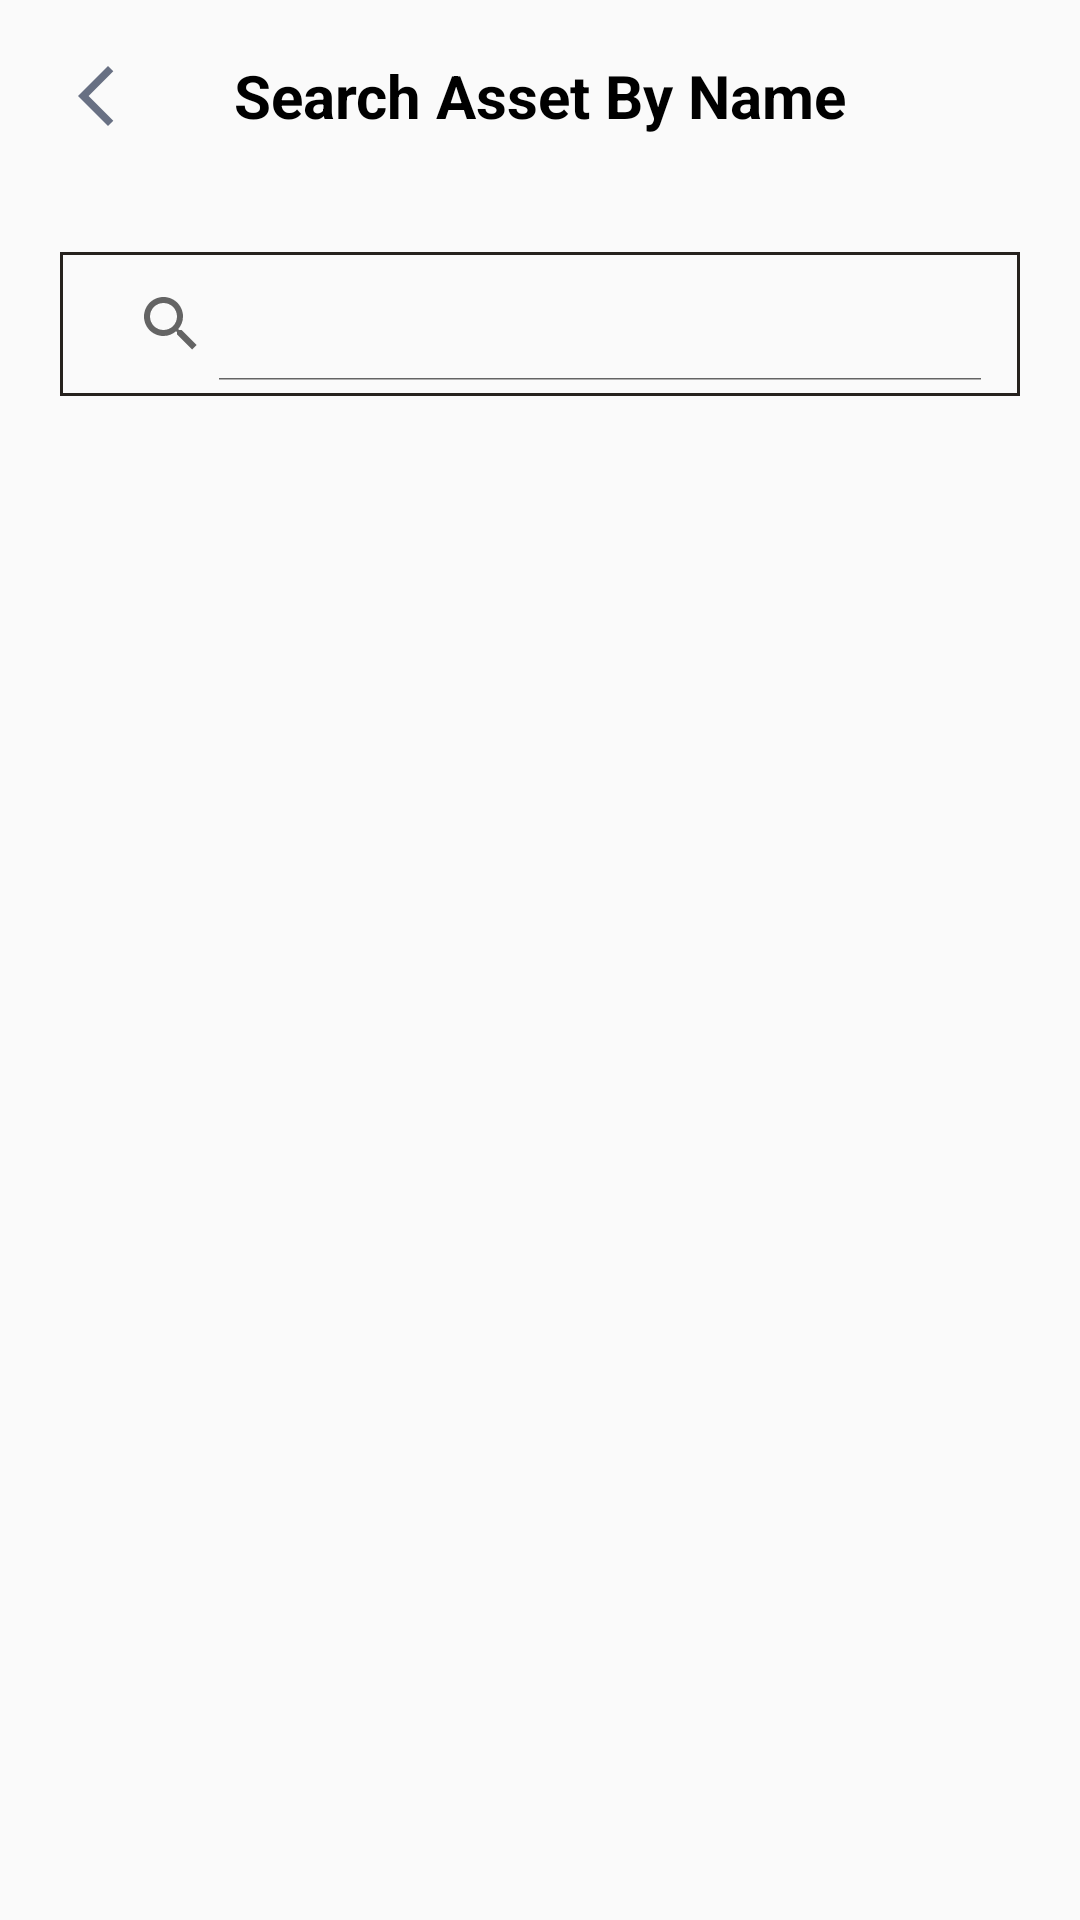

Named icons in this screenshot (1080×1920) and their bounding boxes, {"left": x1, "top": y1, "right": x2, "bottom": y2}:
arrow back: {"left": 78, "top": 66, "right": 113, "bottom": 126}
